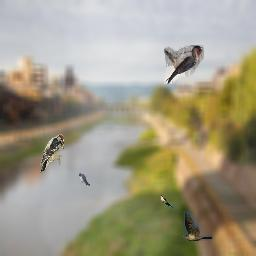Cuckoo: (183, 211, 213, 241)
Swallow: (164, 45, 204, 84), (160, 195, 173, 208), (79, 173, 90, 187)
Woodpecker: (38, 134, 64, 174)
